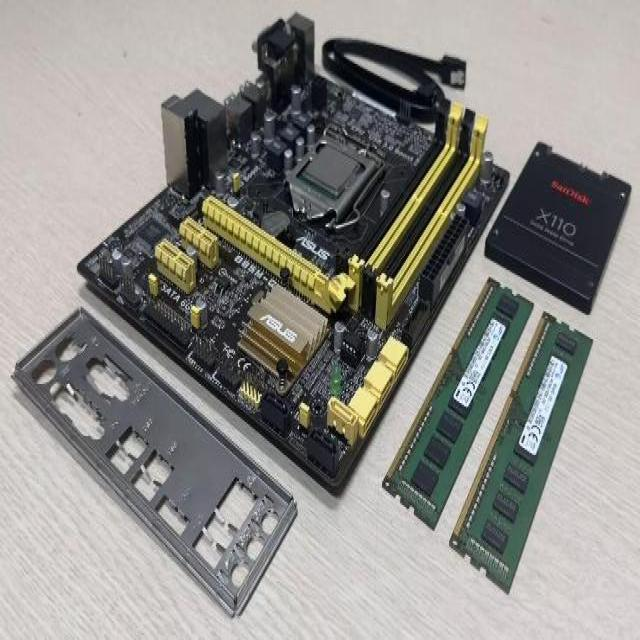CPU: (300, 143, 361, 199)
DISK: (482, 142, 632, 318)
RAM: (448, 312, 594, 598), (380, 276, 536, 534)
